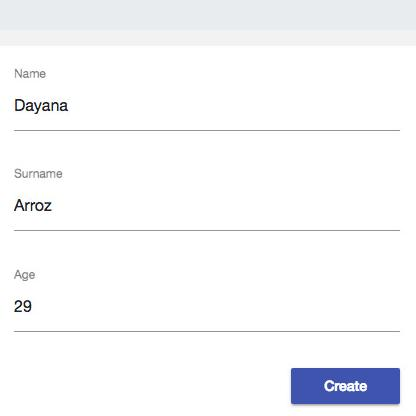button: (289, 366, 403, 406)
field_line: (11, 91, 403, 133), (11, 194, 403, 235), (8, 294, 405, 332)
field_line_with_label: (9, 166, 405, 237), (8, 66, 405, 135), (6, 268, 410, 335)
